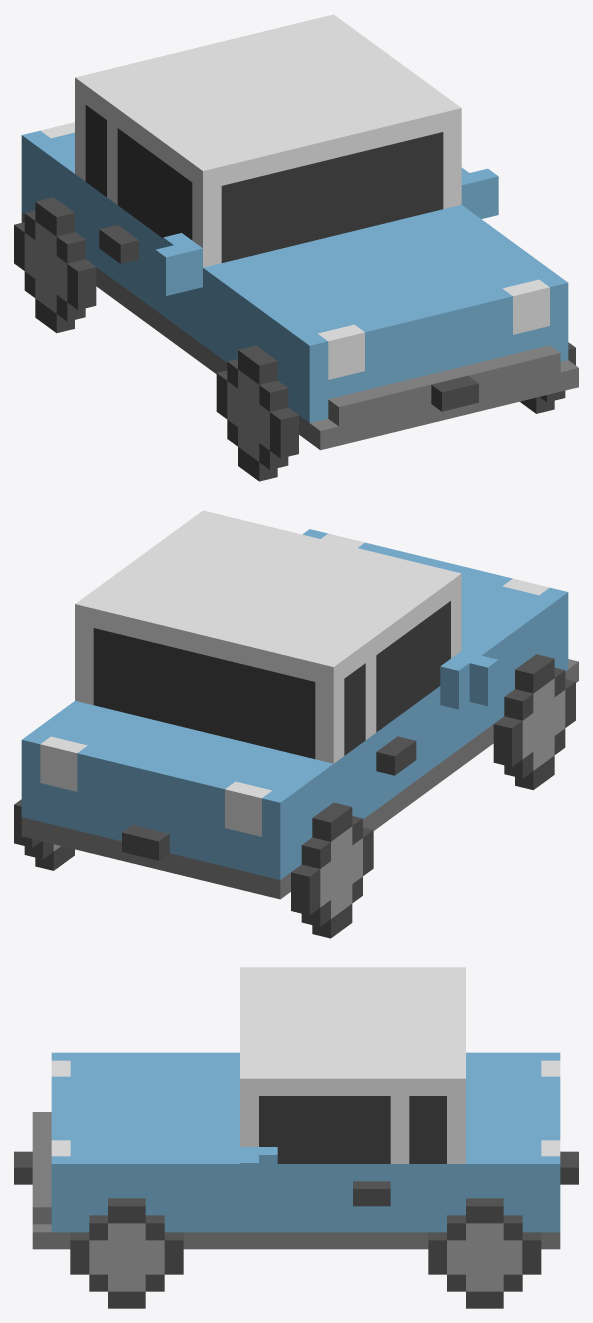
File: id-beach-car.obj
3 views of the same model, one above another, from view 1: azimuth 30°, elevation 25°; view 2: azimuth 150°, elevation 25°; view 3: azimuth 270°, elevation 25° (orthographic). The views are drawn at different scales.
Size of the model in its own units: 18 by 13 by 30.
1 material, 1 textured.
